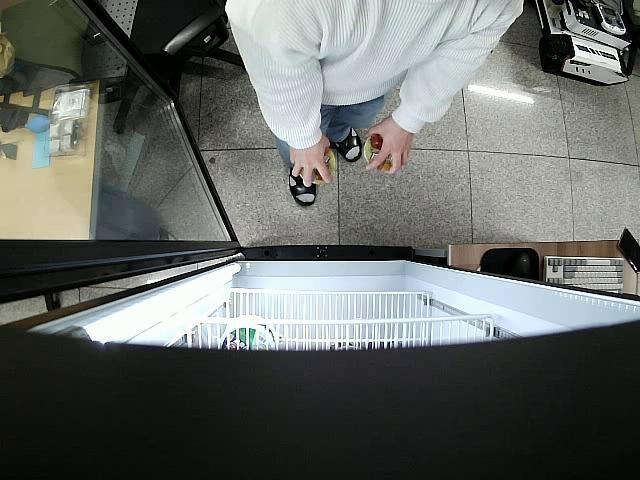04_chapagetti_S: (300, 145, 335, 182), (364, 133, 393, 174)
